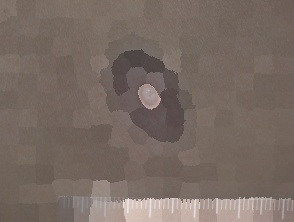vitiligo: (85, 27, 215, 174)
